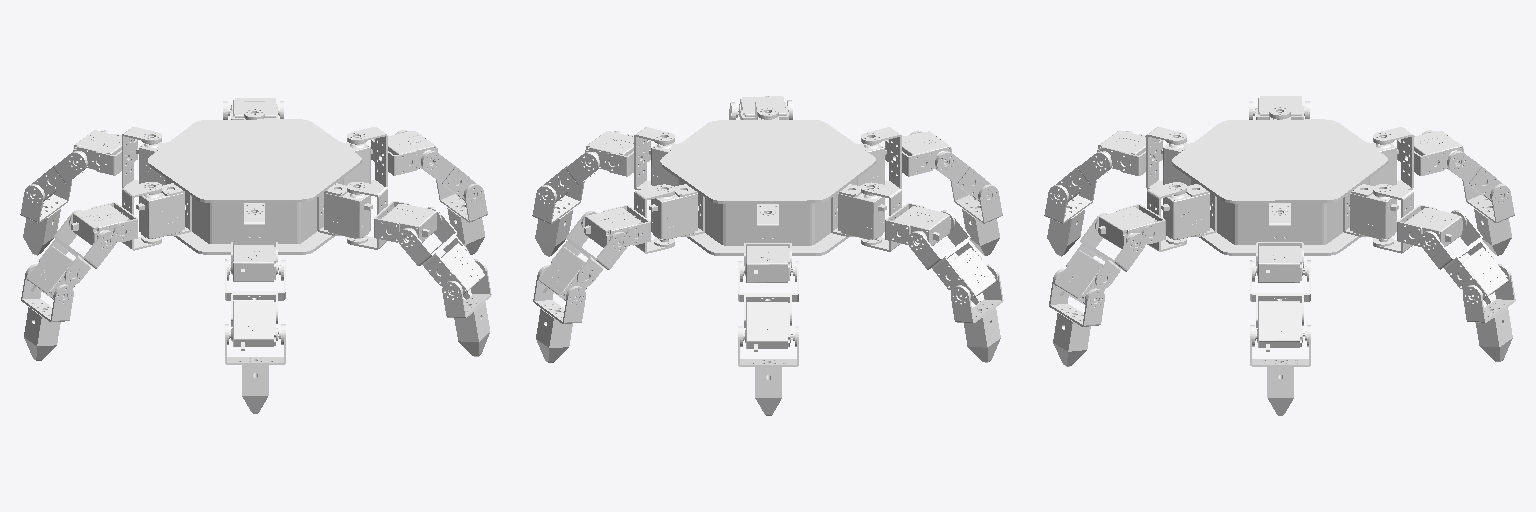
robot.urdf — hexbot:
<?xml version="1.0" ?>
<!-- =================================================================================== -->
<!-- |    This document was autogenerated by xacro from hexbot.xacro                   | -->
<!-- |    EDITING THIS FILE BY HAND IS NOT RECOMMENDED                                 | -->
<!-- =================================================================================== -->
<robot name="hexbot">
  <link name="base_link">
    <inertial>
      <origin rpy="0 0 0" xyz="-5.7578E-17 -0.026865 -5.6409E-17"/>
      <mass value="0.45569"/>
      <inertia ixx="0.00067888" ixy="-1.6518E-19" ixz="4.3182E-15" iyy="0.0012021" iyz="-3.5752E-19" izz="0.00067888"/>
    </inertial>
    <visual>
      <origin rpy="0 0 0" xyz="0 0 0"/>
      <geometry>
        <mesh filename="package://hexbot/meshes/base_link.STL"/>
      </geometry>
      <material name="">
        <color rgba="1 1 1 1"/>
      </material>
    </visual>
    <collision>
      <origin rpy="0 0 0" xyz="0 0 0"/>
      <geometry>
        <mesh filename="package://hexbot/meshes/base_link.STL"/>
      </geometry>
    </collision>
  </link>
  <link name="thigh_1">
    <inertial>
      <origin rpy="0 0 0" xyz="0 0 0"/>
      <mass value="0.0416454946793614"/>
      <inertia ixx="1.01464532907881E-05" ixy="-9.01102352886516E-08" ixz="5.83026179577091E-08" iyy="9.79635939418219E-06" iyz="2.29962924939912E-11" izz="1.11686383627586E-05"/>
    </inertial>
    <visual>
      <origin rpy="0 0 0" xyz="0 0 0"/>
      <geometry>
        <mesh filename="package://hexbot/meshes/thigh.STL"/>
      </geometry>
      <material name="">
        <color rgba="1 1 1 1"/>
      </material>
    </visual>
    <collision>
      <origin rpy="0 0 0" xyz="0 0 0"/>
      <geometry>
        <mesh filename="package://hexbot/meshes/thigh.STL"/>
      </geometry>
    </collision>
  </link>
  <link name="thigh_2">
    <inertial>
      <origin rpy="0 0 0" xyz="0 0 0"/>
      <mass value="0.0416454946793614"/>
      <inertia ixx="1.01464532907881E-05" ixy="-9.01102352886516E-08" ixz="5.83026179577091E-08" iyy="9.79635939418219E-06" iyz="2.29962924939912E-11" izz="1.11686383627586E-05"/>
    </inertial>
    <visual>
      <origin rpy="0 0 0" xyz="0 0 0"/>
      <geometry>
        <mesh filename="package://hexbot/meshes/thigh.STL"/>
      </geometry>
      <material name="">
        <color rgba="1 1 1 1"/>
      </material>
    </visual>
    <collision>
      <origin rpy="0 0 0" xyz="0 0 0"/>
      <geometry>
        <mesh filename="package://hexbot/meshes/thigh.STL"/>
      </geometry>
    </collision>
  </link>
  <link name="thigh_3">
    <inertial>
      <origin rpy="0 0 0" xyz="0 0 0"/>
      <mass value="0.0416454946793614"/>
      <inertia ixx="1.01464532907881E-05" ixy="-9.01102352886516E-08" ixz="5.83026179577091E-08" iyy="9.79635939418219E-06" iyz="2.29962924939912E-11" izz="1.11686383627586E-05"/>
    </inertial>
    <visual>
      <origin rpy="0 0 0" xyz="0 0 0"/>
      <geometry>
        <mesh filename="package://hexbot/meshes/thigh.STL"/>
      </geometry>
      <material name="">
        <color rgba="1 1 1 1"/>
      </material>
    </visual>
    <collision>
      <origin rpy="0 0 0" xyz="0 0 0"/>
      <geometry>
        <mesh filename="package://hexbot/meshes/thigh.STL"/>
      </geometry>
    </collision>
  </link>
  <link name="thigh_4">
    <inertial>
      <origin rpy="0 0 0" xyz="0 0 0"/>
      <mass value="0.0416454946793614"/>
      <inertia ixx="1.01464532907881E-05" ixy="-9.01102352886516E-08" ixz="5.83026179577091E-08" iyy="9.79635939418219E-06" iyz="2.29962924939912E-11" izz="1.11686383627586E-05"/>
    </inertial>
    <visual>
      <origin rpy="0 0 0" xyz="0 0 0"/>
      <geometry>
        <mesh filename="package://hexbot/meshes/thigh.STL"/>
      </geometry>
      <material name="">
        <color rgba="1 1 1 1"/>
      </material>
    </visual>
    <collision>
      <origin rpy="0 0 0" xyz="0 0 0"/>
      <geometry>
        <mesh filename="package://hexbot/meshes/thigh.STL"/>
      </geometry>
    </collision>
  </link>
  <link name="thigh_5">
    <inertial>
      <origin rpy="0 0 0" xyz="0 0 0"/>
      <mass value="0.0416454946793614"/>
      <inertia ixx="1.01464532907881E-05" ixy="-9.01102352886516E-08" ixz="5.83026179577091E-08" iyy="9.79635939418219E-06" iyz="2.29962924939912E-11" izz="1.11686383627586E-05"/>
    </inertial>
    <visual>
      <origin rpy="0 0 0" xyz="0 0 0"/>
      <geometry>
        <mesh filename="package://hexbot/meshes/thigh.STL"/>
      </geometry>
      <material name="">
        <color rgba="1 1 1 1"/>
      </material>
    </visual>
    <collision>
      <origin rpy="0 0 0" xyz="0 0 0"/>
      <geometry>
        <mesh filename="package://hexbot/meshes/thigh.STL"/>
      </geometry>
    </collision>
  </link>
  <link name="thigh_6">
    <inertial>
      <origin rpy="0 0 0" xyz="0 0 0"/>
      <mass value="0.0416454946793614"/>
      <inertia ixx="1.01464532907881E-05" ixy="-9.01102352886516E-08" ixz="5.83026179577091E-08" iyy="9.79635939418219E-06" iyz="2.29962924939912E-11" izz="1.11686383627586E-05"/>
    </inertial>
    <visual>
      <origin rpy="0 0 0" xyz="0 0 0"/>
      <geometry>
        <mesh filename="package://hexbot/meshes/thigh.STL"/>
      </geometry>
      <material name="">
        <color rgba="1 1 1 1"/>
      </material>
    </visual>
    <collision>
      <origin rpy="0 0 0" xyz="0 0 0"/>
      <geometry>
        <mesh filename="package://hexbot/meshes/thigh.STL"/>
      </geometry>
    </collision>
  </link>
  <link name="shin_1">
    <inertial>
      <origin rpy="0 0 0" xyz="0 0 0"/>
      <mass value="0.0416454939081647"/>
      <inertia ixx="1.01464529463005E-05" ixy="-5.79008683658633E-11" ixz="1.48086764022737E-07" iyy="1.42061146123856E-05" iyz="-6.47788995139536E-12" izz="6.7588826935067E-06"/>
    </inertial>
    <visual>
      <origin rpy="0 0 0" xyz="0 0 0"/>
      <geometry>
        <mesh filename="package://hexbot/meshes/shin.STL"/>
      </geometry>
      <material name="">
        <color rgba="1 1 1 1"/>
      </material>
    </visual>
    <collision>
      <origin rpy="0 0 0" xyz="0 0 0"/>
      <geometry>
        <mesh filename="package://hexbot/meshes/shin.STL"/>
      </geometry>
    </collision>
  </link>
  <link name="shin_2">
    <inertial>
      <origin rpy="0 0 0" xyz="0 0 0"/>
      <mass value="0.0416454939081647"/>
      <inertia ixx="1.01464529463005E-05" ixy="-5.79008683658633E-11" ixz="1.48086764022737E-07" iyy="1.42061146123856E-05" iyz="-6.47788995139536E-12" izz="6.7588826935067E-06"/>
    </inertial>
    <visual>
      <origin rpy="0 0 0" xyz="0 0 0"/>
      <geometry>
        <mesh filename="package://hexbot/meshes/shin.STL"/>
      </geometry>
      <material name="">
        <color rgba="1 1 1 1"/>
      </material>
    </visual>
    <collision>
      <origin rpy="0 0 0" xyz="0 0 0"/>
      <geometry>
        <mesh filename="package://hexbot/meshes/shin.STL"/>
      </geometry>
    </collision>
  </link>
  <link name="shin_3">
    <inertial>
      <origin rpy="0 0 0" xyz="0 0 0"/>
      <mass value="0.0416454939081647"/>
      <inertia ixx="1.01464529463005E-05" ixy="-5.79008683658633E-11" ixz="1.48086764022737E-07" iyy="1.42061146123856E-05" iyz="-6.47788995139536E-12" izz="6.7588826935067E-06"/>
    </inertial>
    <visual>
      <origin rpy="0 0 0" xyz="0 0 0"/>
      <geometry>
        <mesh filename="package://hexbot/meshes/shin.STL"/>
      </geometry>
      <material name="">
        <color rgba="1 1 1 1"/>
      </material>
    </visual>
    <collision>
      <origin rpy="0 0 0" xyz="0 0 0"/>
      <geometry>
        <mesh filename="package://hexbot/meshes/shin.STL"/>
      </geometry>
    </collision>
  </link>
  <link name="shin_4">
    <inertial>
      <origin rpy="0 0 0" xyz="0 0 0"/>
      <mass value="0.0416454939081647"/>
      <inertia ixx="1.01464529463005E-05" ixy="-5.79008683658633E-11" ixz="1.48086764022737E-07" iyy="1.42061146123856E-05" iyz="-6.47788995139536E-12" izz="6.7588826935067E-06"/>
    </inertial>
    <visual>
      <origin rpy="0 0 0" xyz="0 0 0"/>
      <geometry>
        <mesh filename="package://hexbot/meshes/shin.STL"/>
      </geometry>
      <material name="">
        <color rgba="1 1 1 1"/>
      </material>
    </visual>
    <collision>
      <origin rpy="0 0 0" xyz="0 0 0"/>
      <geometry>
        <mesh filename="package://hexbot/meshes/shin.STL"/>
      </geometry>
    </collision>
  </link>
  <link name="shin_5">
    <inertial>
      <origin rpy="0 0 0" xyz="0 0 0"/>
      <mass value="0.0416454939081647"/>
      <inertia ixx="1.01464529463005E-05" ixy="-5.79008683658633E-11" ixz="1.48086764022737E-07" iyy="1.42061146123856E-05" iyz="-6.47788995139536E-12" izz="6.7588826935067E-06"/>
    </inertial>
    <visual>
      <origin rpy="0 0 0" xyz="0 0 0"/>
      <geometry>
        <mesh filename="package://hexbot/meshes/shin.STL"/>
      </geometry>
      <material name="">
        <color rgba="1 1 1 1"/>
      </material>
    </visual>
    <collision>
      <origin rpy="0 0 0" xyz="0 0 0"/>
      <geometry>
        <mesh filename="package://hexbot/meshes/shin.STL"/>
      </geometry>
    </collision>
  </link>
  <link name="shin_6">
    <inertial>
      <origin rpy="0 0 0" xyz="0 0 0"/>
      <mass value="0.0416454939081647"/>
      <inertia ixx="1.01464529463005E-05" ixy="-5.79008683658633E-11" ixz="1.48086764022737E-07" iyy="1.42061146123856E-05" iyz="-6.47788995139536E-12" izz="6.7588826935067E-06"/>
    </inertial>
    <visual>
      <origin rpy="0 0 0" xyz="0 0 0"/>
      <geometry>
        <mesh filename="package://hexbot/meshes/shin.STL"/>
      </geometry>
      <material name="">
        <color rgba="1 1 1 1"/>
      </material>
    </visual>
    <collision>
      <origin rpy="0 0 0" xyz="0 0 0"/>
      <geometry>
        <mesh filename="package://hexbot/meshes/shin.STL"/>
      </geometry>
    </collision>
  </link>
  <link name="foot_1">
    <inertial>
      <origin rpy="0 0 0" xyz="0 0 0"/>
      <mass value="0.0264807627517247"/>
      <inertia ixx="5.16912819060422E-06" ixy="-1.91682876233419E-10" ixz="5.8167586632756E-08" iyy="7.99193660112382E-06" iyz="7.92351583964294E-12" izz="4.71320299684973E-06"/>
    </inertial>
    <visual>
      <origin rpy="0 0 0" xyz="0 0 0"/>
      <geometry>
        <mesh filename="package://hexbot/meshes/foot.STL"/>
      </geometry>
      <material name="">
        <color rgba="1 1 1 1"/>
      </material>
    </visual>
    <collision>
      <origin rpy="0 0 0" xyz="0 0 0"/>
      <geometry>
        <mesh filename="package://hexbot/meshes/foot.STL"/>
      </geometry>
    </collision>
  </link>
  <link name="foot_2">
    <inertial>
      <origin rpy="0 0 0" xyz="0 0 0"/>
      <mass value="0.0264807627517247"/>
      <inertia ixx="5.16912819060422E-06" ixy="-1.91682876233419E-10" ixz="5.8167586632756E-08" iyy="7.99193660112382E-06" iyz="7.92351583964294E-12" izz="4.71320299684973E-06"/>
    </inertial>
    <visual>
      <origin rpy="0 0 0" xyz="0 0 0"/>
      <geometry>
        <mesh filename="package://hexbot/meshes/foot.STL"/>
      </geometry>
      <material name="">
        <color rgba="1 1 1 1"/>
      </material>
    </visual>
    <collision>
      <origin rpy="0 0 0" xyz="0 0 0"/>
      <geometry>
        <mesh filename="package://hexbot/meshes/foot.STL"/>
      </geometry>
    </collision>
  </link>
  <link name="foot_3">
    <inertial>
      <origin rpy="0 0 0" xyz="0 0 0"/>
      <mass value="0.0264807627517247"/>
      <inertia ixx="5.16912819060422E-06" ixy="-1.91682876233419E-10" ixz="5.8167586632756E-08" iyy="7.99193660112382E-06" iyz="7.92351583964294E-12" izz="4.71320299684973E-06"/>
    </inertial>
    <visual>
      <origin rpy="0 0 0" xyz="0 0 0"/>
      <geometry>
        <mesh filename="package://hexbot/meshes/foot.STL"/>
      </geometry>
      <material name="">
        <color rgba="1 1 1 1"/>
      </material>
    </visual>
    <collision>
      <origin rpy="0 0 0" xyz="0 0 0"/>
      <geometry>
        <mesh filename="package://hexbot/meshes/foot.STL"/>
      </geometry>
    </collision>
  </link>
  <link name="foot_4">
    <inertial>
      <origin rpy="0 0 0" xyz="0 0 0"/>
      <mass value="0.0264807627517247"/>
      <inertia ixx="5.16912819060422E-06" ixy="-1.91682876233419E-10" ixz="5.8167586632756E-08" iyy="7.99193660112382E-06" iyz="7.92351583964294E-12" izz="4.71320299684973E-06"/>
    </inertial>
    <visual>
      <origin rpy="0 0 0" xyz="0 0 0"/>
      <geometry>
        <mesh filename="package://hexbot/meshes/foot.STL"/>
      </geometry>
      <material name="">
        <color rgba="1 1 1 1"/>
      </material>
    </visual>
    <collision>
      <origin rpy="0 0 0" xyz="0 0 0"/>
      <geometry>
        <mesh filename="package://hexbot/meshes/foot.STL"/>
      </geometry>
    </collision>
  </link>
  <link name="foot_5">
    <inertial>
      <origin rpy="0 0 0" xyz="0 0 0"/>
      <mass value="0.0264807627517247"/>
      <inertia ixx="5.16912819060422E-06" ixy="-1.91682876233419E-10" ixz="5.8167586632756E-08" iyy="7.99193660112382E-06" iyz="7.92351583964294E-12" izz="4.71320299684973E-06"/>
    </inertial>
    <visual>
      <origin rpy="0 0 0" xyz="0 0 0"/>
      <geometry>
        <mesh filename="package://hexbot/meshes/foot.STL"/>
      </geometry>
      <material name="">
        <color rgba="1 1 1 1"/>
      </material>
    </visual>
    <collision>
      <origin rpy="0 0 0" xyz="0 0 0"/>
      <geometry>
        <mesh filename="package://hexbot/meshes/foot.STL"/>
      </geometry>
    </collision>
  </link>
  <link name="foot_6">
    <inertial>
      <origin rpy="0 0 0" xyz="0 0 0"/>
      <mass value="0.0264807627517247"/>
      <inertia ixx="5.16912819060422E-06" ixy="-1.91682876233419E-10" ixz="5.8167586632756E-08" iyy="7.99193660112382E-06" iyz="7.92351583964294E-12" izz="4.71320299684973E-06"/>
    </inertial>
    <visual>
      <origin rpy="0 0 0" xyz="0 0 0"/>
      <geometry>
        <mesh filename="package://hexbot/meshes/foot.STL"/>
      </geometry>
      <material name="">
        <color rgba="1 1 1 1"/>
      </material>
    </visual>
    <collision>
      <origin rpy="0 0 0" xyz="0 0 0"/>
      <geometry>
        <mesh filename="package://hexbot/meshes/foot.STL"/>
      </geometry>
    </collision>
  </link>
  <joint name="thigh_1_joint" type="revolute">
    <origin rpy="-1.5708 -1.0472 0" xyz="0.0557 -0.049 0.096475"/>
    <parent link="base_link"/>
    <child link="thigh_1"/>
    <axis xyz="0 0 1"/>
    <limit effort="0" lower="-1" upper="1" velocity="0"/>
  </joint>
  <joint name="thigh_2_joint" type="revolute">
    <origin rpy="-1.5707963267949 0 0" xyz="0.111400000000001 -0.051 0"/>
    <parent link="base_link"/>
    <child link="thigh_2"/>
    <axis xyz="0 0 1"/>
    <limit effort="0" lower="-1" upper="1" velocity="0"/>
  </joint>
  <joint name="thigh_3_joint" type="revolute">
    <origin rpy="-1.5707963267949 0.966273587280999 0" xyz="0.0556999999999999 -0.051 -0.0964752299815872"/>
    <parent link="base_link"/>
    <child link="thigh_3"/>
    <axis xyz="0 0 1"/>
    <limit effort="0" lower="-1" upper="1" velocity="0"/>
  </joint>
  <joint name="thigh_4_joint" type="revolute">
    <origin rpy="1.5708 1.0472 -3.1416" xyz="-0.0557 -0.051 -0.096475"/>
    <parent link="base_link"/>
    <child link="thigh_4"/>
    <axis xyz="0 0 1"/>
    <limit effort="0" lower="-1" upper="1" velocity="0"/>
  </joint>
  <joint name="thigh_5_joint" type="revolute">
    <origin rpy="1.5708 0 3.1416" xyz="-0.1114 -0.051 0"/>
    <parent link="base_link"/>
    <child link="thigh_5"/>
    <axis xyz="0 0 1"/>
    <limit effort="0" lower="-1" upper="1" velocity="0"/>
  </joint>
  <joint name="thigh_6_joint" type="revolute">
    <origin rpy="1.5708 -1.0472 3.1416" xyz="-0.0557 -0.051 0.096475"/>
    <parent link="base_link"/>
    <child link="thigh_6"/>
    <axis xyz="0 0 1"/>
    <limit effort="0" lower="-1" upper="1" velocity="0"/>
  </joint>
  <joint name="shin_1_joint" type="revolute">
    <origin rpy="1.5707963267949 -0.785398163397449 0" xyz="0.0648 0.02575 0.02475"/>
    <parent link="thigh_1"/>
    <child link="shin_1"/>
    <axis xyz="0 0 1"/>
    <limit effort="0" lower="-1" upper="1" velocity="0"/>
  </joint>
  <joint name="shin_2_joint" type="revolute">
    <origin rpy="1.5708 -0.7854 0" xyz="0.0648 0.02575 0.02675"/>
    <parent link="thigh_2"/>
    <child link="shin_2"/>
    <axis xyz="0 0 1"/>
    <limit effort="0" lower="-1" upper="1" velocity="0"/>
  </joint>
  <joint name="shin_3_joint" type="revolute">
    <origin rpy="1.5708 -0.7854 0" xyz="0.0648 0.02575 0.02675"/>
    <parent link="thigh_3"/>
    <child link="shin_3"/>
    <axis xyz="0 0 1"/>
    <limit effort="0" lower="-1" upper="1" velocity="0"/>
  </joint>
  <joint name="shin_4_joint" type="revolute">
    <origin rpy="1.5707963267949 -0.785398163397448 0" xyz="0.0647999999999991 0.02575 0.02675"/>
    <parent link="thigh_4"/>
    <child link="shin_4"/>
    <axis xyz="0 0 1"/>
    <limit effort="0" lower="-1" upper="1" velocity="0"/>
  </joint>
  <joint name="shin_5_joint" type="revolute">
    <origin rpy="1.5708 -0.7854 0" xyz="0.0648 0.02575 0.02675"/>
    <parent link="thigh_5"/>
    <child link="shin_5"/>
    <axis xyz="0 0 1"/>
    <limit effort="0" lower="-1" upper="1" velocity="0"/>
  </joint>
  <joint name="shin_6_joint" type="revolute">
    <origin rpy="1.5708 -0.7854 0" xyz="0.0648 0.02575 0.02675"/>
    <parent link="thigh_6"/>
    <child link="shin_6"/>
    <axis xyz="0 0 1"/>
    <limit effort="0" lower="-1" upper="1" velocity="0"/>
  </joint>
  <joint name="foot_1_joint" type="revolute">
    <origin rpy="0 0 0.61087" xyz="0.0647 -0.001 0"/>
    <parent link="shin_1"/>
    <child link="foot_1"/>
    <axis xyz="0 0 1"/>
    <limit effort="0" lower="-1" upper="1" velocity="0"/>
  </joint>
  <joint name="foot_2_joint" type="revolute">
    <origin rpy="0 0 0.610865238198015" xyz="0.0646999999999998 -0.000999999999999224 0"/>
    <parent link="shin_2"/>
    <child link="foot_2"/>
    <axis xyz="0 0 1"/>
    <limit effort="0" lower="-1" upper="1" velocity="0"/>
  </joint>
  <joint name="foot_3_joint" type="revolute">
    <origin rpy="0 0 0.610865238198017" xyz="0.0647000000000003 -0.00099999999999964 0"/>
    <parent link="shin_3"/>
    <child link="foot_3"/>
    <axis xyz="0 0 1"/>
    <limit effort="0" lower="-1" upper="1" velocity="0"/>
  </joint>
  <joint name="foot_4_joint" type="revolute">
    <origin rpy="0 0 0.61087" xyz="0.0647 -0.001 0"/>
    <parent link="shin_4"/>
    <child link="foot_4"/>
    <axis xyz="0 0 1"/>
    <limit effort="0" lower="-1" upper="1" velocity="0"/>
  </joint>
  <joint name="foot_5_joint" type="revolute">
    <origin rpy="0 0 0.610865238198015" xyz="0.0647000000000012 -0.00100000000000069 0"/>
    <parent link="shin_5"/>
    <child link="foot_5"/>
    <axis xyz="0 0 1"/>
    <limit effort="0" lower="-1" upper="1" velocity="0"/>
  </joint>
  <joint name="foot_6_joint" type="revolute">
    <origin rpy="0 0 0.61087" xyz="0.0647 -0.001 0"/>
    <parent link="shin_6"/>
    <child link="foot_6"/>
    <axis xyz="0 0 1"/>
    <limit effort="0" lower="-1" upper="1" velocity="0"/>
  </joint>
  <link name="base_footprint">
  </link>
  <joint name="base_joint" type="fixed">
    <origin rpy="-1.5708 0 0" xyz="0 0 0.25"/>
    <parent link="base_footprint"/>
    <child link="base_link"/>
  </joint>
</robot>

--- Facts derived from the render (not from the file) ---
Views: 3 orthographic renders of the robot side by side, from view 1: azimuth 30°, elevation 25°; view 2: azimuth 150°, elevation 25°; view 3: azimuth 270°, elevation 25°.
Robot: hexbot — 20 links, 19 joints (18 revolute, 1 fixed); root link base_footprint; default pose: all joints at 0.
Links seen in each view (by area): view 1: base_link, shin_5, shin_3, shin_4, thigh_5, thigh_3, thigh_2, thigh_6, foot_5, foot_3, thigh_4, foot_6 (+5 smaller); view 2: base_link, shin_5, shin_1, shin_6, thigh_1, thigh_5, thigh_2, thigh_4, foot_5, foot_1, thigh_6, foot_2 (+5 smaller); view 3: base_link, shin_3, shin_1, shin_2, thigh_3, thigh_1, thigh_6, thigh_4, foot_1, foot_3, thigh_2, foot_4 (+5 smaller).
Link boxes in pixels (<box>): base_link: <box>136,114,372,254</box>; shin_5: <box>27,210,116,299</box>; shin_3: <box>397,207,484,299</box>; shin_4: <box>225,259,285,350</box>; thigh_5: <box>71,182,161,250</box>; thigh_3: <box>347,182,436,249</box>; thigh_2: <box>347,127,437,186</box>; thigh_6: <box>73,127,161,187</box>; foot_5: <box>21,264,73,360</box>; foot_3: <box>442,259,491,356</box>; thigh_4: <box>229,207,277,281</box>; foot_6: <box>20,181,71,255</box>; base_link: <box>649,117,886,255</box>; shin_5: <box>907,210,995,304</box>; shin_1: <box>539,211,628,300</box>; shin_6: <box>738,261,798,351</box>; thigh_1: <box>584,184,674,253</box>; thigh_5: <box>861,182,950,251</box>; thigh_2: <box>585,127,674,189</box>; thigh_4: <box>861,127,951,188</box>; foot_5: <box>951,264,1003,362</box>; foot_1: <box>533,265,585,362</box>; thigh_6: <box>743,208,791,282</box>; foot_2: <box>532,181,584,256</box>; base_link: <box>1161,117,1398,255</box>; shin_3: <box>1055,213,1145,305</box>; shin_1: <box>1419,210,1508,304</box>; shin_2: <box>1250,260,1310,351</box>; thigh_3: <box>1098,182,1186,251</box>; thigh_1: <box>1373,184,1462,253</box>; thigh_6: <box>1373,127,1463,189</box>; thigh_4: <box>1097,127,1186,189</box>; foot_1: <box>1463,264,1515,361</box>; foot_3: <box>1049,269,1104,366</box>; thigh_2: <box>1255,207,1303,282</box>; foot_4: <box>1044,181,1096,256</box>.
Bounding box of the posed robot: 0.4867 × 0.4394 × 0.1531 m (x, y, z).
Meshes: 4 distinct files referenced, 19 mesh visuals loaded (4 binary STL).